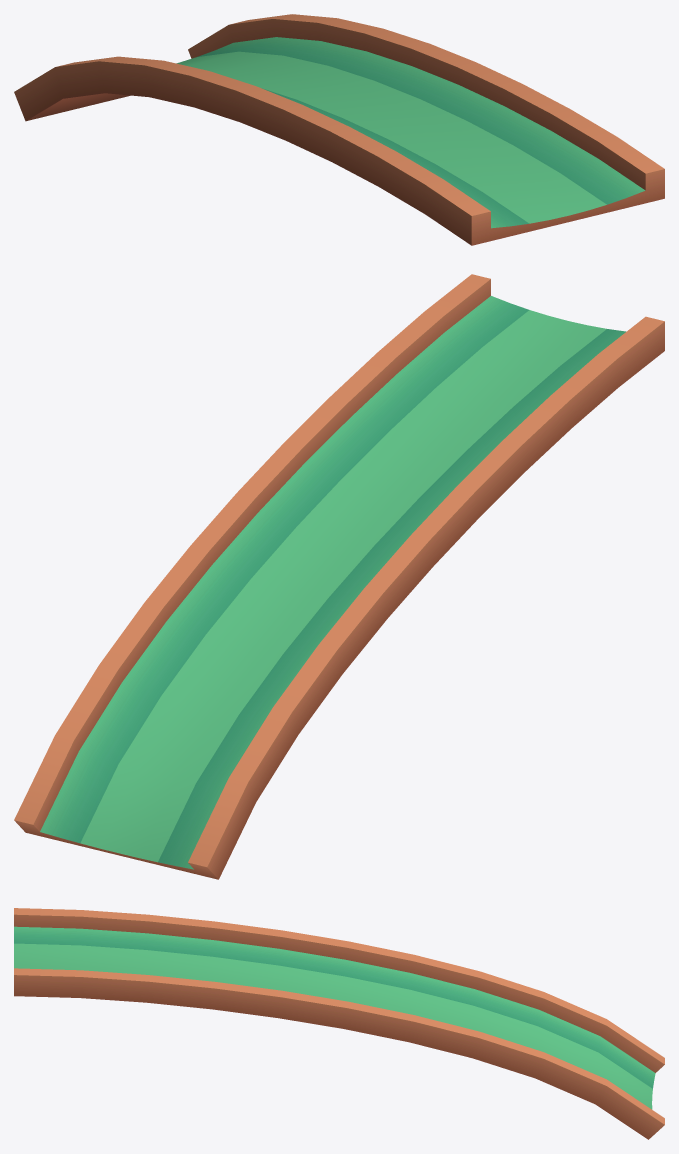
File: spline-concave-straight-hill-end.glb
3 views of the same model, one above another, from view 1: azimuth 30°, elevation 25°; view 2: azimuth 150°, elevation 25°; view 3: azimuth 270°, elevation 25° (orthographic). The views are drawn at different scales.
Visible parts, largest first — view 1: spline-concave-straight-hill-end; view 2: spline-concave-straight-hill-end; view 3: spline-concave-straight-hill-end.
Part boxes in pixels (x1=…): spline-concave-straight-hill-end: x1=14, y1=14, x2=664, y2=245; spline-concave-straight-hill-end: x1=14, y1=274, x2=664, y2=879; spline-concave-straight-hill-end: x1=14, y1=908, x2=664, y2=1139.
Size of the model in its own units: 0.9999 by 1.15 by 4.1.
Materials: 1 (1 with a texture image).
